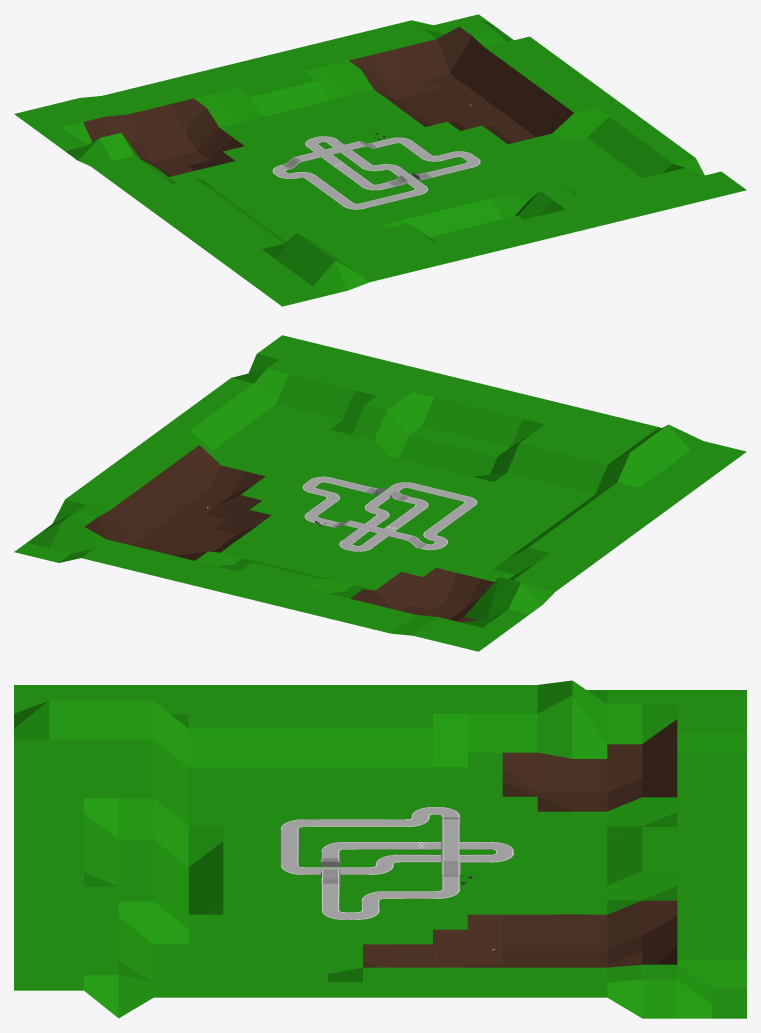
File: track_sep.fbx
3 views of the same model, one above another, from view 1: azimuth 30°, elevation 25°; view 2: azimuth 150°, elevation 25°; view 3: azimuth 270°, elevation 25° (orthographic). The views are drawn at different scales.
Visible parts, largest first — view 1: Cube, track; view 2: Cube, track; view 3: Cube, track.
Part boxes in pixels (x1,y1,x2,y2): Cube: (14, 14, 746, 306); track: (272, 136, 480, 209); Cube: (14, 335, 746, 651); track: (302, 476, 477, 551); Cube: (14, 680, 746, 1018); track: (280, 807, 514, 919).
Bounding box in the file's own units: 450 × 52.98 × 450.
